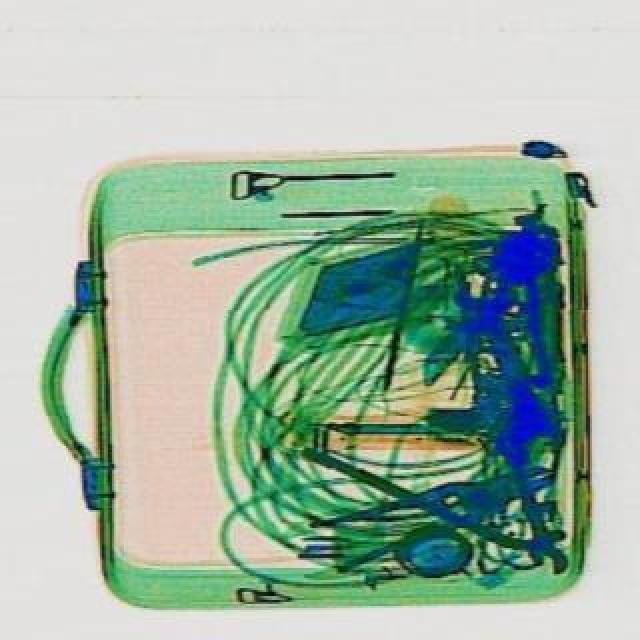scissors: (442, 266, 570, 474)
wrench: (306, 444, 562, 576)
